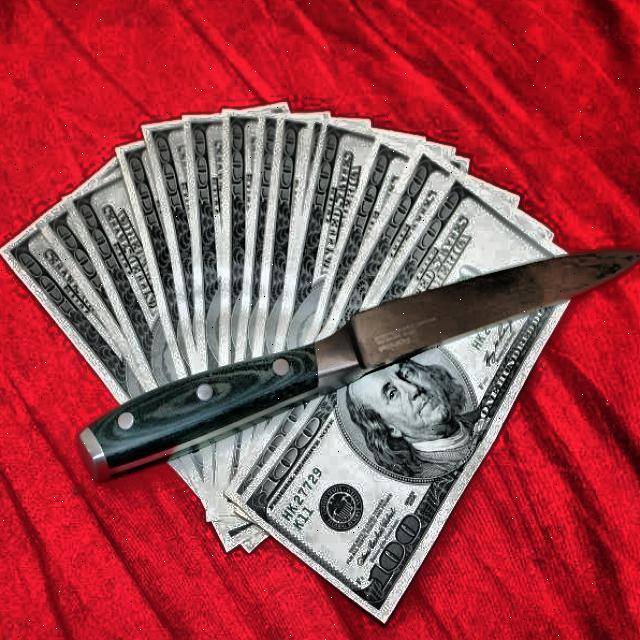knife: (77, 240, 640, 479)
